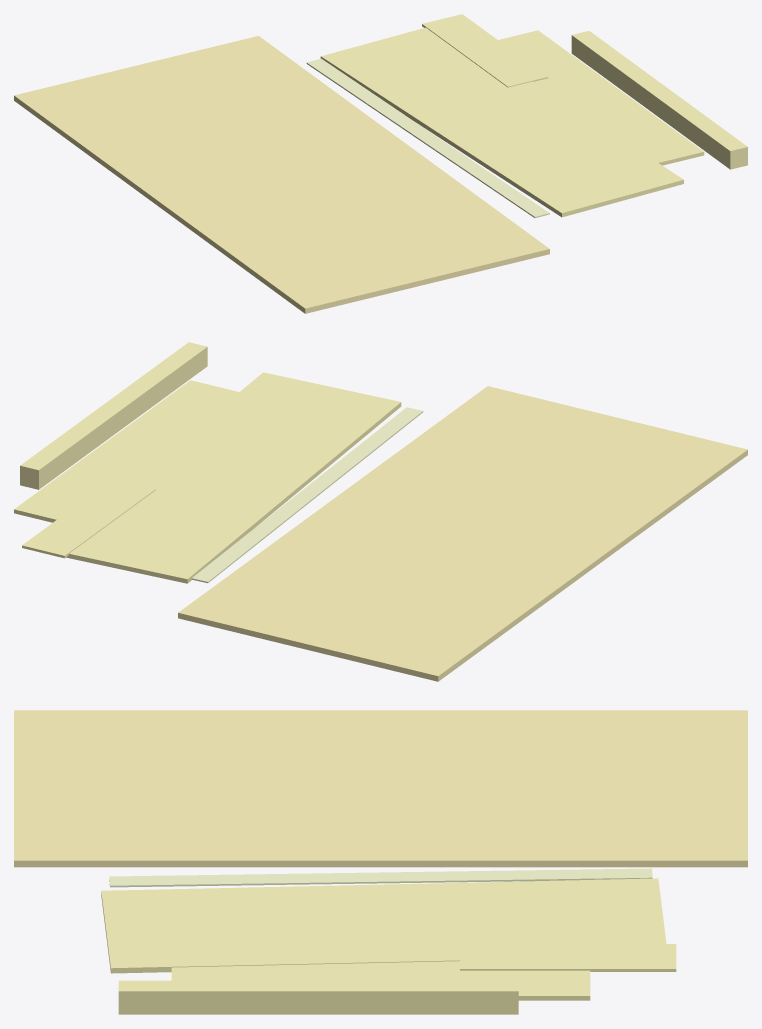
Rendered from road_curbside_enforcement_apron.glb.
3 renders of one model, top to bottom at view 1: azimuth 30°, elevation 25°; view 2: azimuth 150°, elevation 25°; view 3: azimuth 270°, elevation 25°, orthographic. The views are drawn at different scales.
Parts seen in each view (by area): view 1: travel_lane, enforcement_bay, curb_panel, curb_face, gutter_break, flush_pad; view 2: travel_lane, enforcement_bay, curb_panel, curb_face, flush_pad, gutter_break; view 3: travel_lane, enforcement_bay, curb_face, curb_panel, gutter_break, flush_pad.
Boxes of the visible parts, x1,y1,x2,y2 form: travel_lane: (14,36,549,313); enforcement_bay: (320,27,683,217); curb_panel: (498,30,704,165); curb_face: (571,31,747,169); gutter_break: (306,58,549,218); flush_pad: (422,14,548,87); travel_lane: (178,386,747,681); enforcement_bay: (66,372,401,583); curb_panel: (14,380,238,522); curb_face: (20,342,207,489); flush_pad: (22,478,155,558); gutter_break: (191,407,423,583); travel_lane: (14,710,747,867); enforcement_bay: (101,878,666,973); curb_face: (118,980,518,1014); curb_panel: (171,961,590,1000); gutter_break: (109,868,652,887); flush_pad: (460,944,676,971).
Size of the model in its own units: 3.84 by 0.14 by 4.
